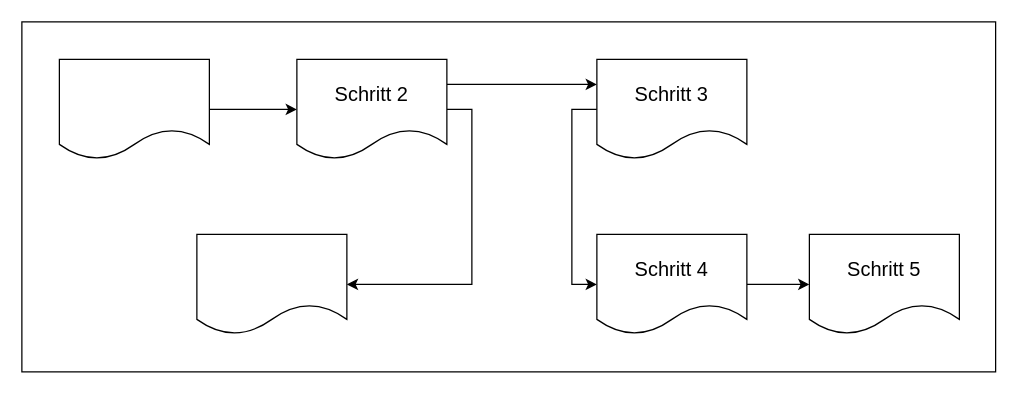
The diagram is 1018 pixels wide and 394 high, and some of its shapes have lost their labels. Each missing label, with the box of its shape:
Schritt 1: (58, 58, 209, 159)
Schritt 6: (196, 233, 347, 334)
